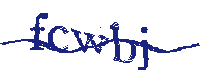b: (110, 21, 135, 66)
c: (48, 24, 71, 53)
f: (29, 11, 49, 51)
j: (138, 26, 150, 70)
w: (72, 26, 108, 54)
